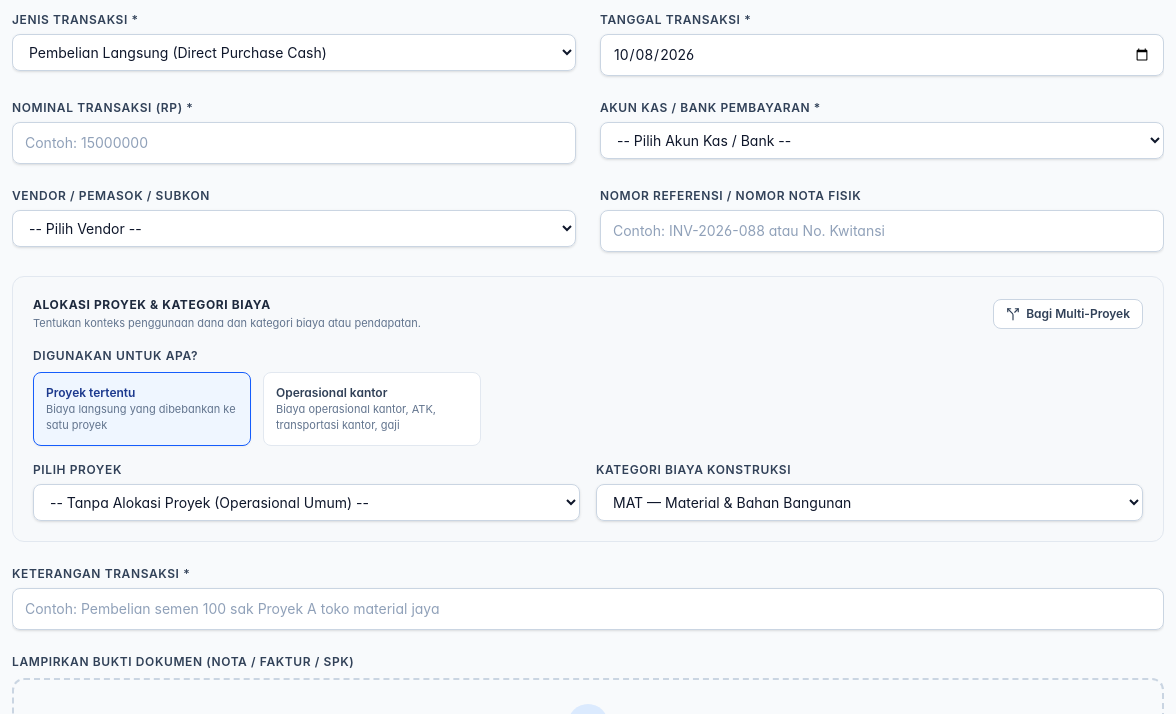
TransactionFlow Form › toggles multi-project split mode when clicked
Click the button "Bagi Multi-Proyek" at (1068, 314), box [993, 299, 1143, 329]
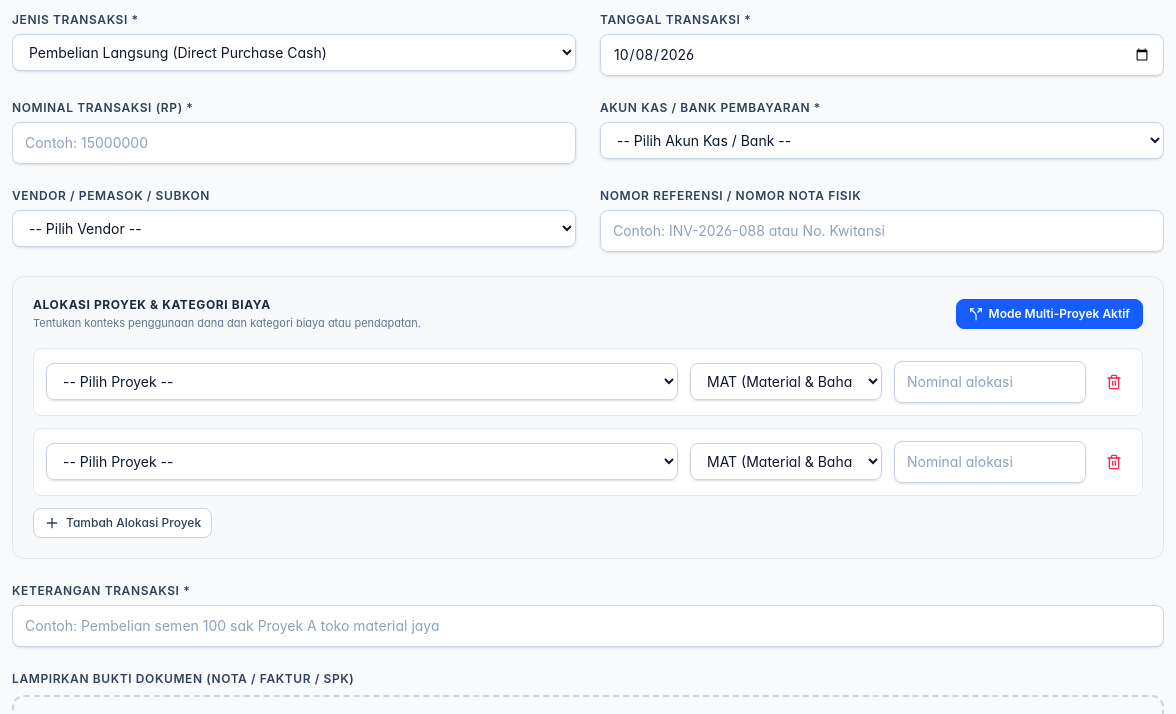
Expected: the button "Mode Multi-Proyek Aktif" is shown, [956, 299, 1143, 329]
Expected: the button "Tambah Alokasi Proyek" is shown, [33, 508, 212, 538]
